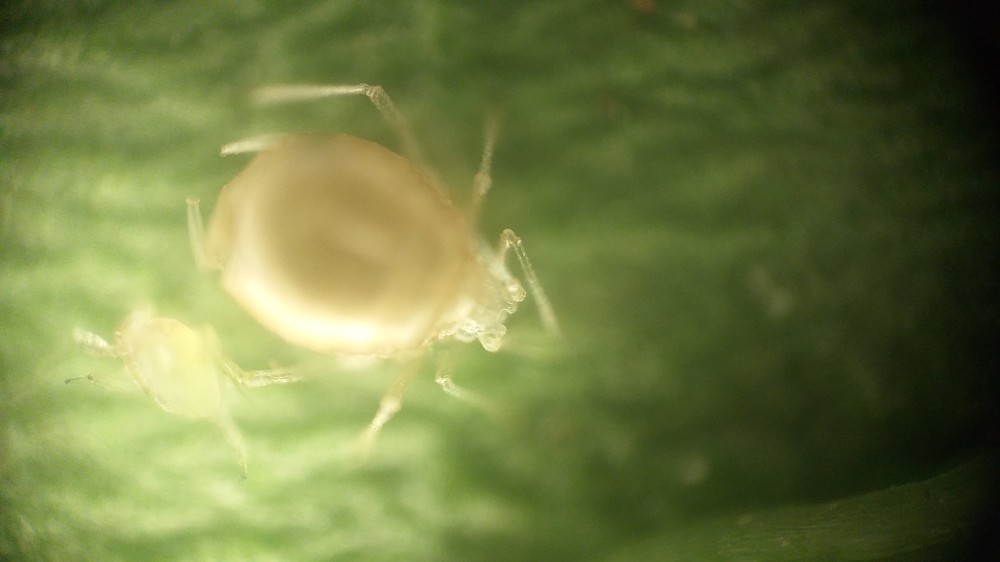Pulgon: (168, 68, 607, 489)
